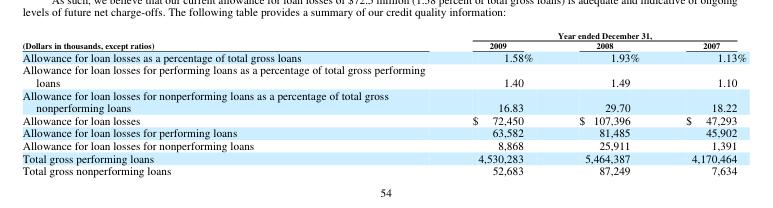table: (21, 28, 745, 177)
table column: (21, 28, 448, 177), (448, 28, 555, 177), (555, 28, 662, 177), (662, 28, 745, 177)
table column header: (21, 28, 745, 49)
table row: (21, 87, 745, 113), (21, 62, 745, 87), (21, 163, 745, 177), (21, 49, 745, 62), (21, 125, 745, 138), (21, 150, 745, 163), (21, 113, 745, 125), (21, 138, 745, 150), (21, 28, 745, 39), (21, 39, 745, 49)
table spanning cell: (21, 28, 448, 49), (448, 28, 745, 39)
